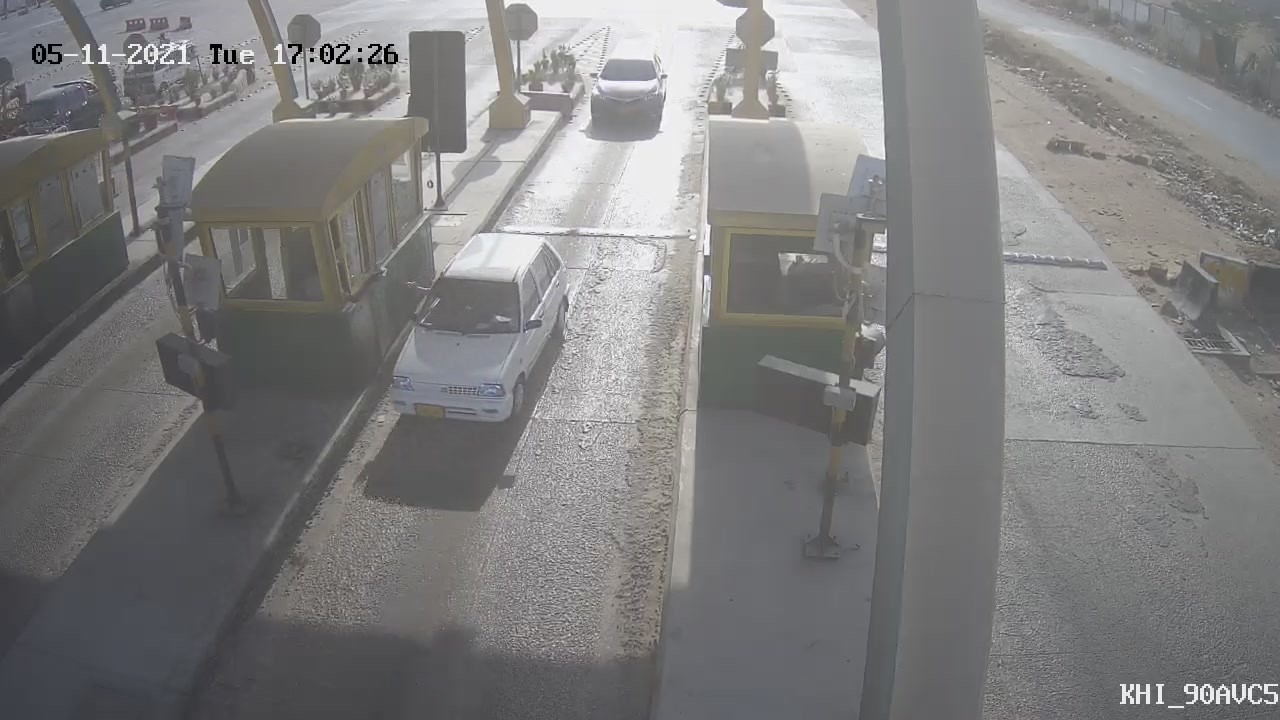F1: (369, 212, 591, 444), (572, 35, 687, 143)
